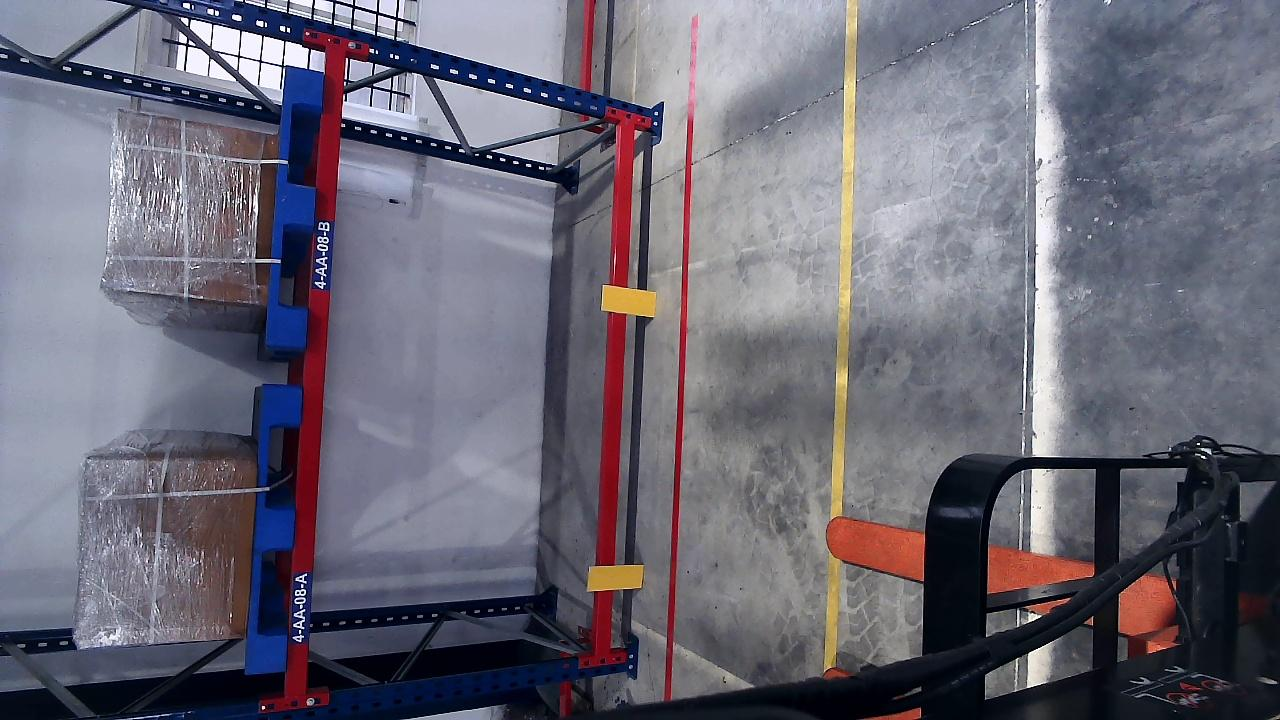h_rack: (280, 44, 347, 664), (590, 121, 636, 650)
orange_strip: (601, 285, 657, 317), (587, 565, 644, 591)
red_line: (659, 11, 698, 697)
small_pallet: (248, 382, 299, 676), (279, 72, 314, 346)
yellow_line: (822, 1, 861, 668)
